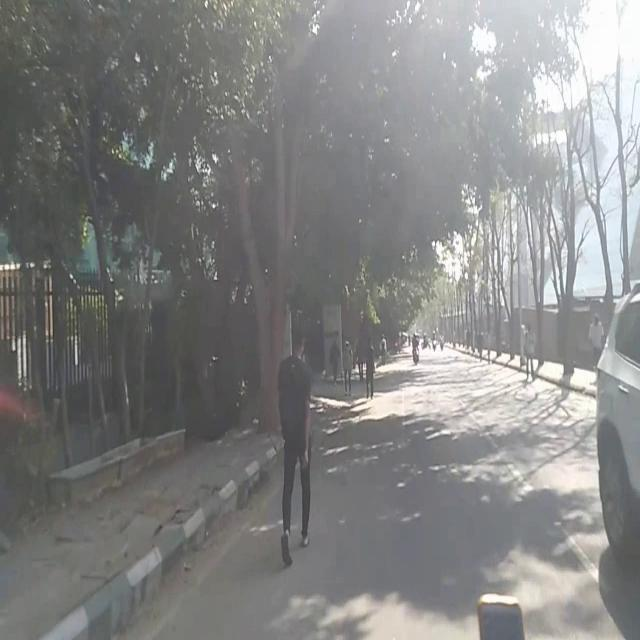car: (597, 284, 640, 588)
person: (275, 323, 315, 578), (361, 336, 380, 402)
road: (139, 421, 639, 640), (349, 350, 598, 418)
sidewalk: (0, 430, 274, 638), (519, 349, 599, 389)
